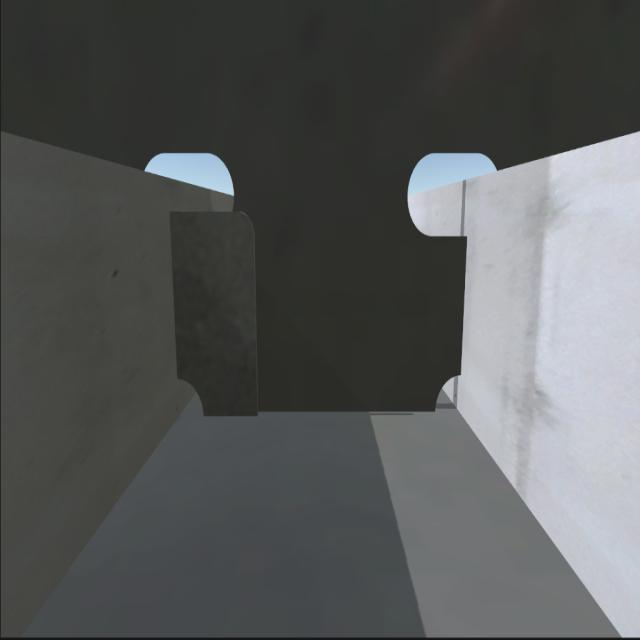fillet_hole: (177, 376, 207, 420), (434, 371, 463, 412)
fillet_yong_jeop_jang: (204, 404, 436, 416)
longi_yong_jeop_jang: (167, 214, 184, 376), (458, 236, 474, 374)
plate_CP05: (178, 217, 260, 411)
